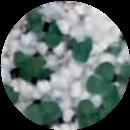Basil: (16, 52, 39, 86), (27, 101, 56, 124), (27, 54, 53, 78), (91, 63, 113, 91), (76, 100, 95, 128), (77, 38, 94, 61), (47, 25, 62, 48), (27, 10, 42, 32)
